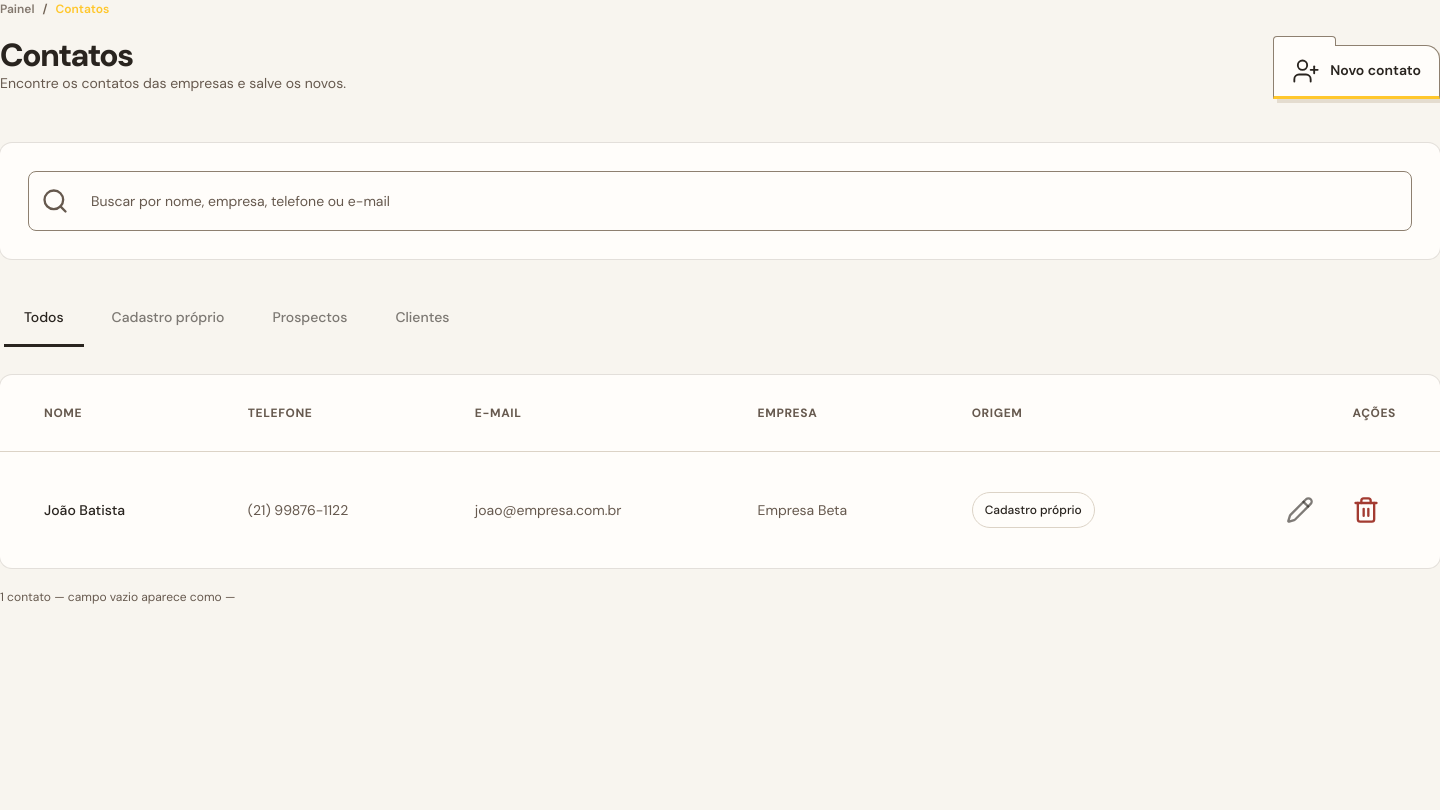
Test: ContatosPage › aplica a máscara de telefone enquanto o BPO digita
Click the button "Novo contato". click: (1357,72)
box: [1273,45,1439,99]
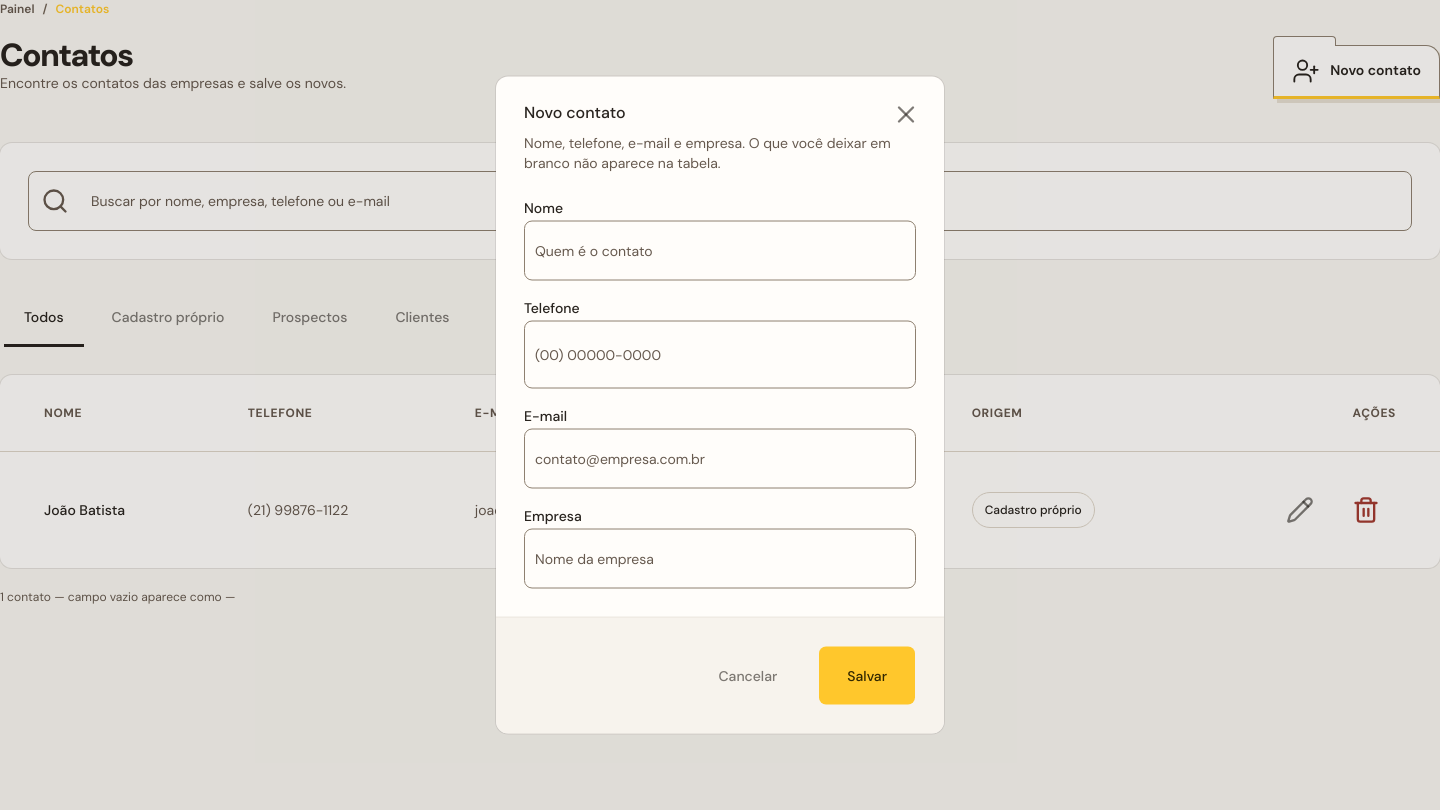
Type "21987654321" into the field labelled "Telefone". click: (720,354)
box: [524,320,916,388]
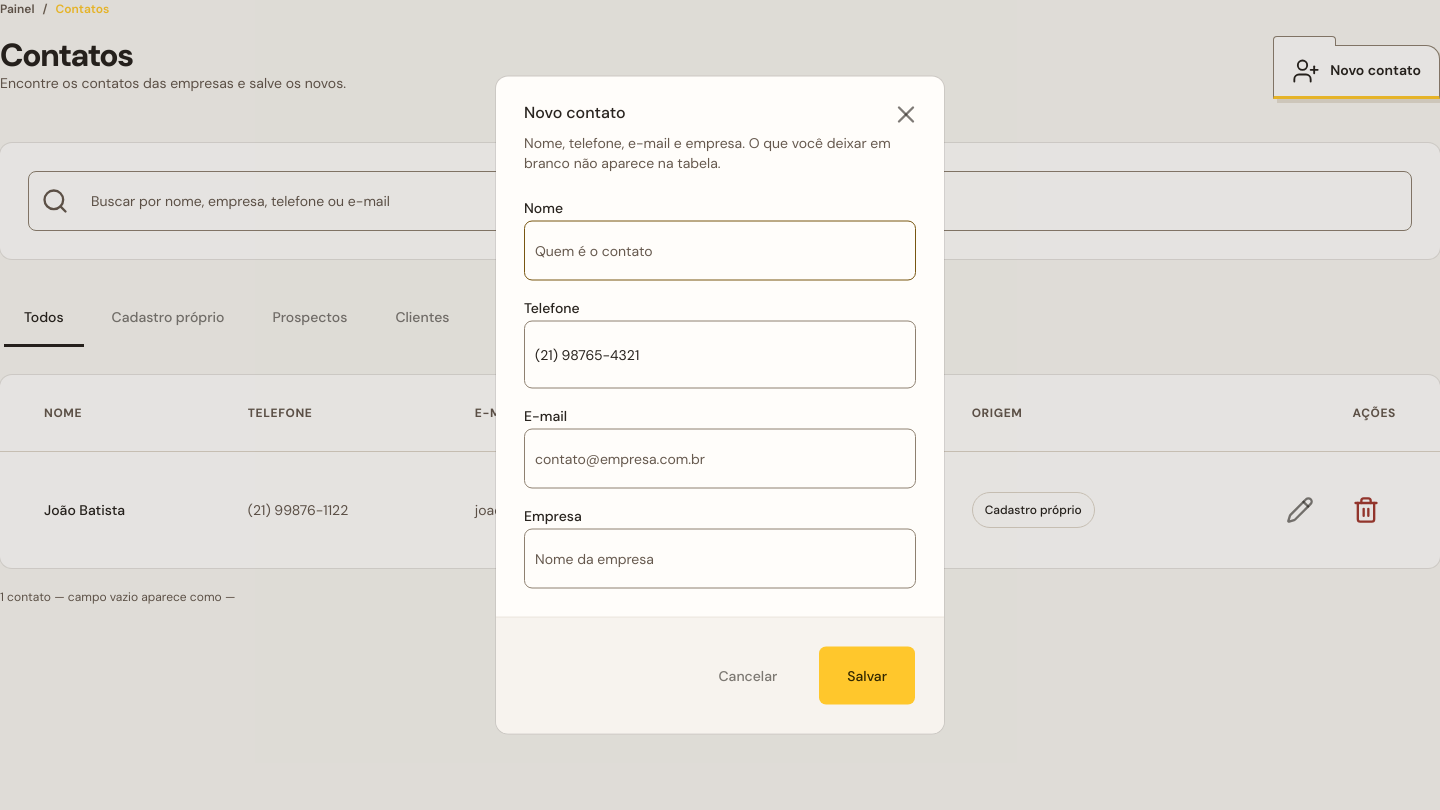
Expected: the field labelled "Telefone" holds "(21) 98765-4321", [524,320,916,388]
